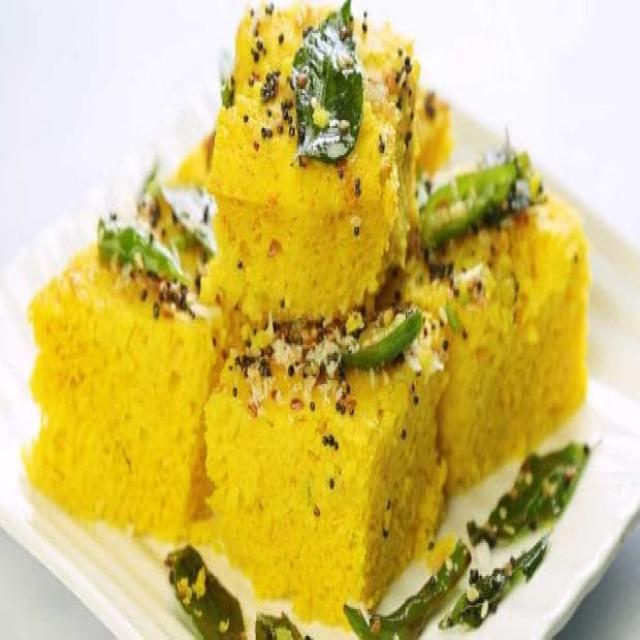dhokla: (36, 4, 605, 615)
